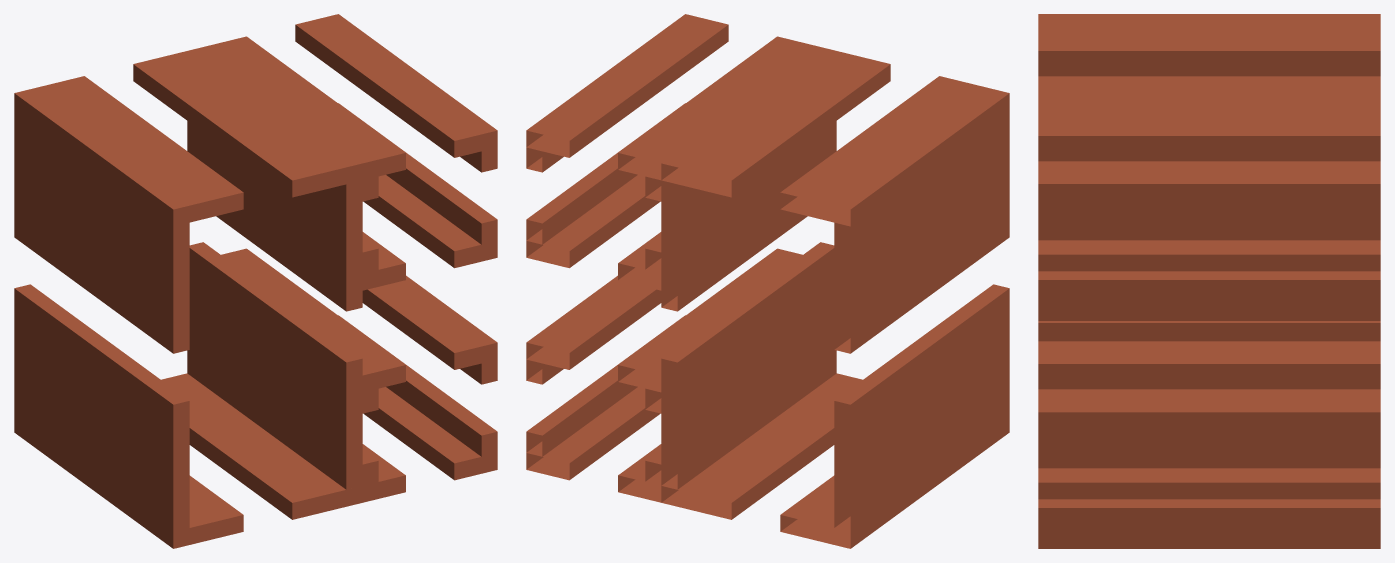
Rendered from construction_1.glb.
3 views of the same model, side by side, from view 1: azimuth 30°, elevation 25°; view 2: azimuth 150°, elevation 25°; view 3: azimuth 270°, elevation 25° (orthographic). The views are drawn at different scales.
Parts seen in each view (by area): view 1: c1; view 2: c1; view 3: c1.
Boxes of the visible parts, box(x1,y1,x2,y2) form: c1: box(14, 14, 497, 548); c1: box(526, 14, 1009, 548); c1: box(1038, 14, 1380, 548).
Bounding box in the file's own units: 12 × 12 × 10.2.
